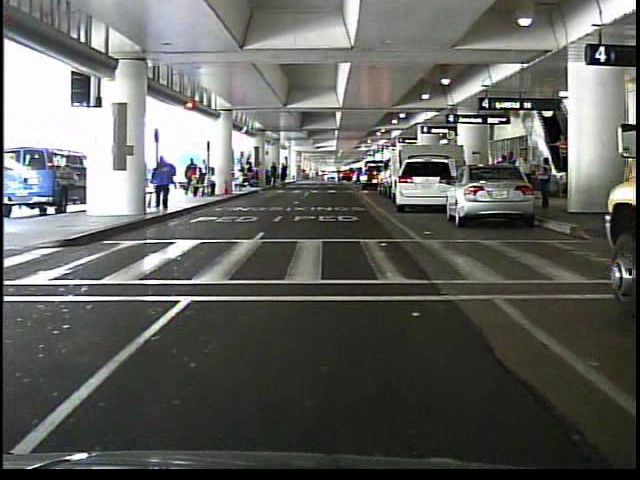person: (149, 154, 177, 211)
